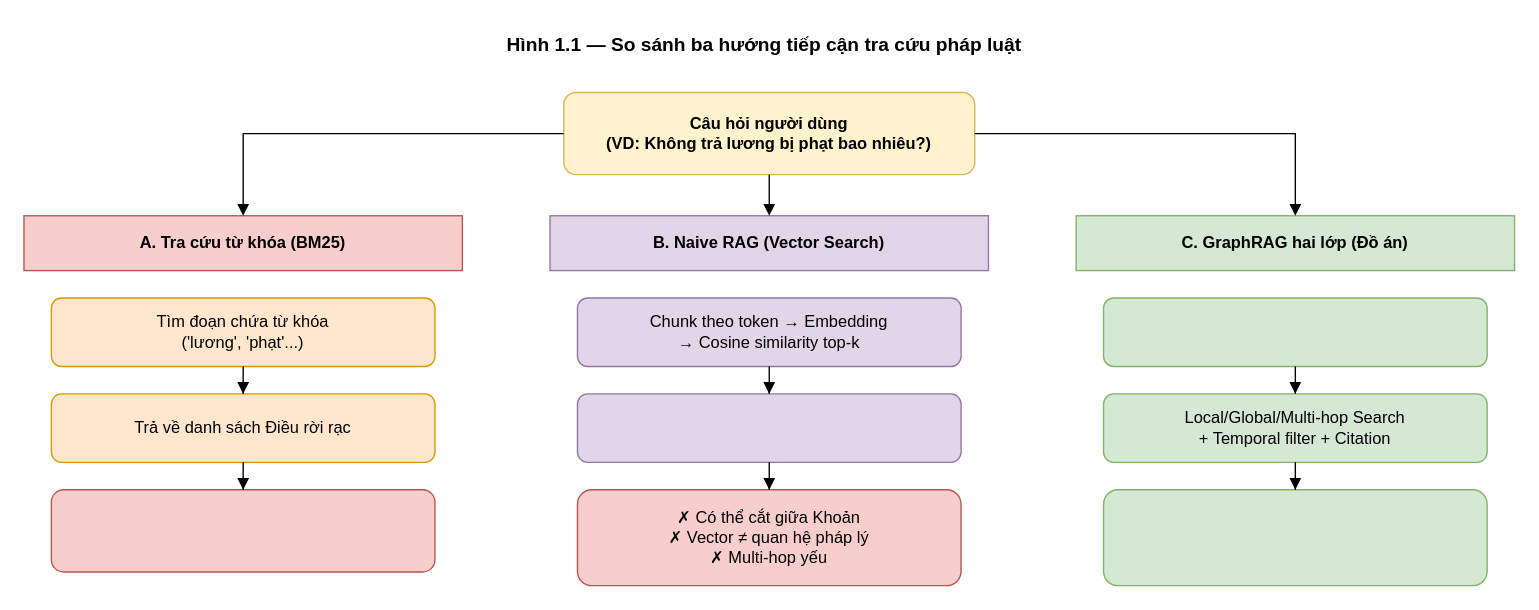
Image size: 1539x610. Some labels were removed from this diagram. The centre of each missing label's shape, as x and y in pixels:
L1 deterministic + L2 LLM → Merged Knowledge Graph: the point at 1294,331
LLM sinh câu trả lời từ context: the point at 768,427
✓ Trích dẫn Điều/Khoản chuẩn ✓ Suy luận chéo văn bản ✓ Kiểm soát hiệu lực: the point at 1294,537
✗ Không suy luận chéo văn bản ✗ Không nối BLLĐ → NĐ 12/2022: the point at 242,530
